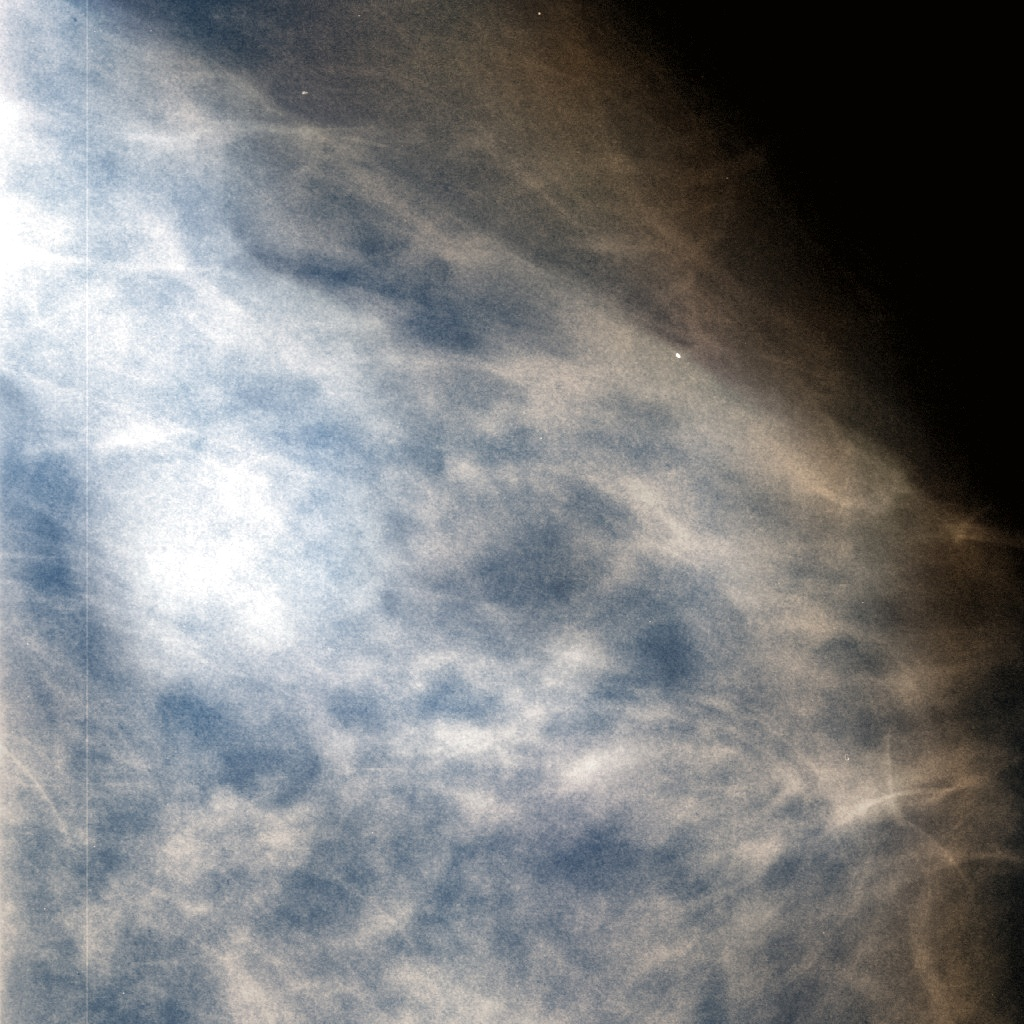tumor: (71, 351, 397, 673)
